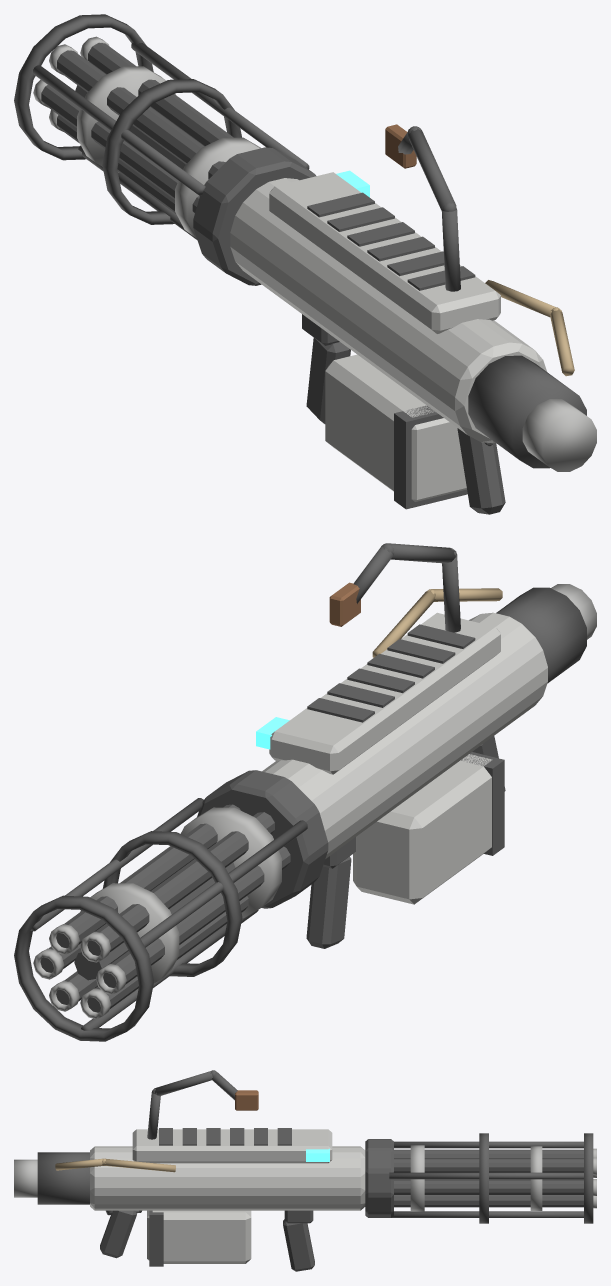
The model's file is minigun.glb.
3 renders of one model, top to bottom at view 1: azimuth 30°, elevation 25°; view 2: azimuth 150°, elevation 25°; view 3: azimuth 270°, elevation 25°, orthographic. The views are drawn at different scales.
Parts seen in each view (by area): view 1: body, barrels; view 2: body, barrels; view 3: body, barrels.
Boxes of the visible parts, <box> form: body: <box>14,14,596,514</box>; barrels: <box>33,36,260,238</box>; body: <box>14,543,596,1041</box>; barrels: <box>33,804,290,1019</box>; body: <box>14,1070,593,1271</box>; barrels: <box>394,1145,596,1211</box>.
Bounding box in the file's own units: 0.1922 × 0.472 × 1.23.
